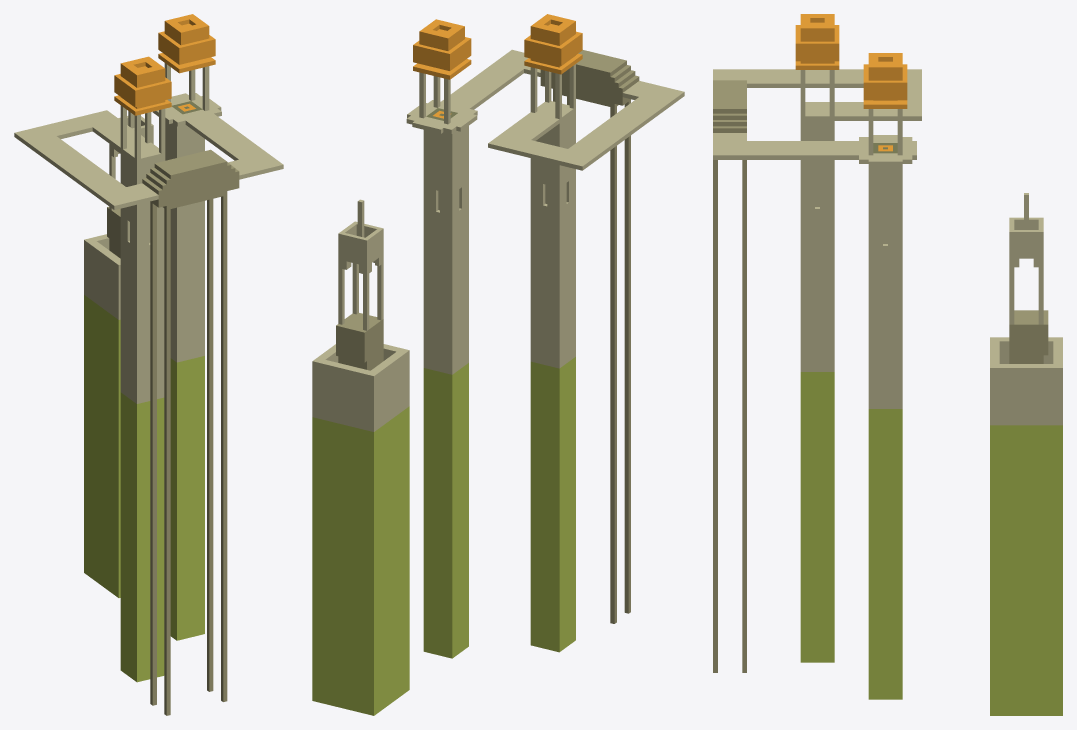
File: cena5.obj
The picture shows the model from 3 angles, left to right: view 1: azimuth 30°, elevation 25°; view 2: azimuth 150°, elevation 25°; view 3: azimuth 270°, elevation 25°; orthographic projection. The views are drawn at different scales.
Bounding box in the file's own units: 4.9 × 14.4 × 7.2.
1 material, 1 textured.
